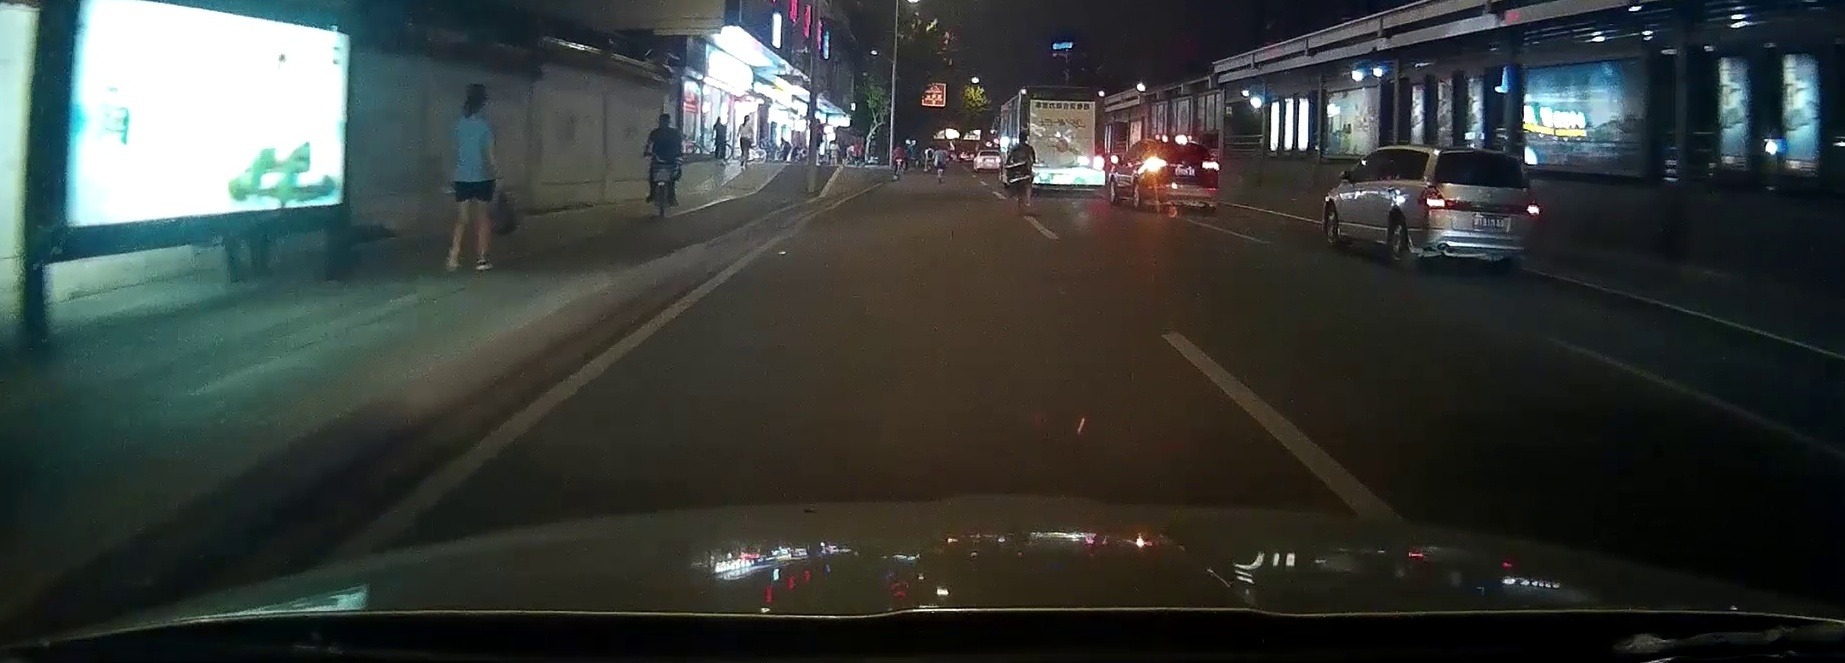L_light: (1421, 184, 1447, 211), (1144, 154, 1163, 174)
R_light: (1200, 155, 1220, 175), (1525, 198, 1541, 219)
T_light: (1476, 150, 1496, 159), (1175, 134, 1188, 144)
night-left: (1137, 134, 1221, 214)
night-no: (1416, 144, 1541, 271)
